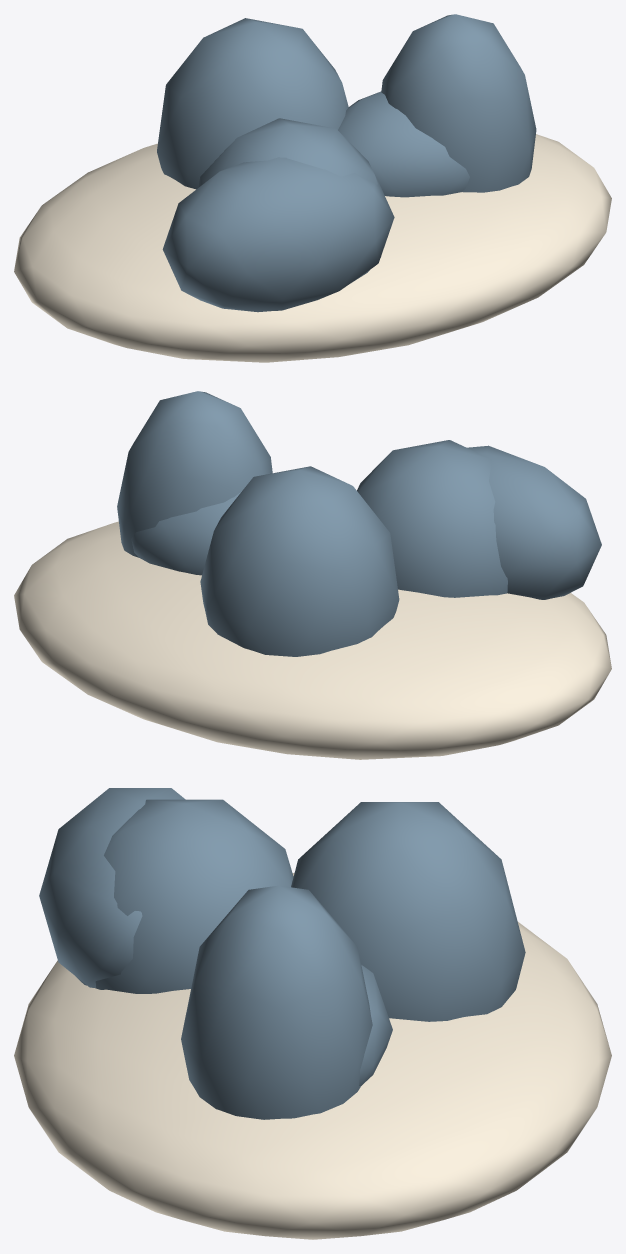
Rendered from reef-05.glb.
The picture shows the model from 3 angles, top to bottom: view 1: azimuth 30°, elevation 25°; view 2: azimuth 150°, elevation 25°; view 3: azimuth 270°, elevation 25°; orthographic projection. The views are drawn at different scales.
Visible parts, largest first — view 1: Sculpted reef base, Reef rock, Reef rock.002, Reef rock.001, Reef rock.004, Reef rock.003; view 2: Sculpted reef base, Reef rock.002, Reef rock.003, Reef rock.001, Reef rock, Reef rock.004; view 3: Sculpted reef base, Reef rock.001, Reef rock.002, Reef rock.003, Reef rock, Reef rock.004.
Part boxes in pixels (x1,y1,x2,y2): Sculpted reef base: (14,134,611,362); Reef rock: (162,157,394,312); Reef rock.002: (157,18,348,189); Reef rock.001: (381,14,536,192); Reef rock.004: (338,91,469,197); Reef rock.003: (198,118,377,282); Sculpted reef base: (14,521,611,759); Reef rock.002: (200,466,399,656); Reef rock.003: (357,440,507,597); Reef rock.001: (117,391,272,557); Reef rock: (467,445,601,599); Reef rock.004: (131,491,241,575); Sculpted reef base: (14,873,611,1239); Reef rock.001: (181,885,372,1119); Reef rock.002: (291,802,525,1021); Reef rock.003: (75,799,293,993); Reef rock: (39,788,185,987); Reef rock.004: (359,965,392,1085).
Size of the model in its own units: 2.7 by 1.23 by 2.04.
